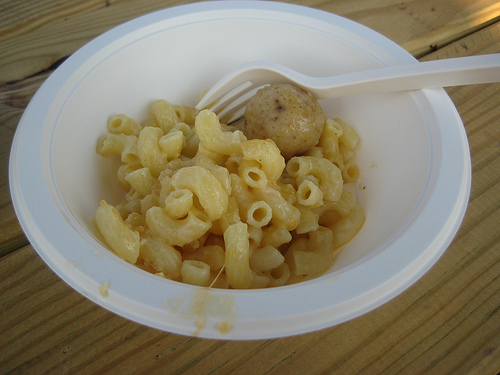macncheese: (94, 88, 362, 280)
